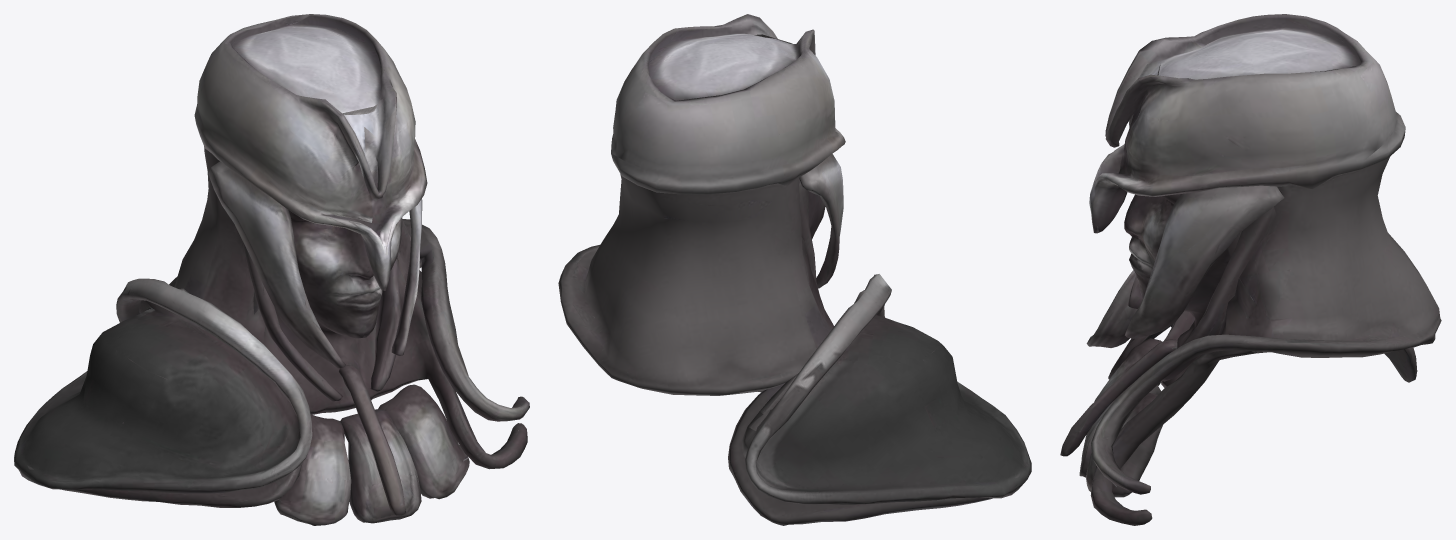
The model's file is guardsmen.glb.
The picture shows the model from 3 angles, left to right: view 1: azimuth 30°, elevation 25°; view 2: azimuth 150°, elevation 25°; view 3: azimuth 270°, elevation 25°; orthographic projection. The views are drawn at different scales.
Size of the model in its own units: 1 by 0.8941 by 0.7202.
Materials: 1 (1 with a texture image).
